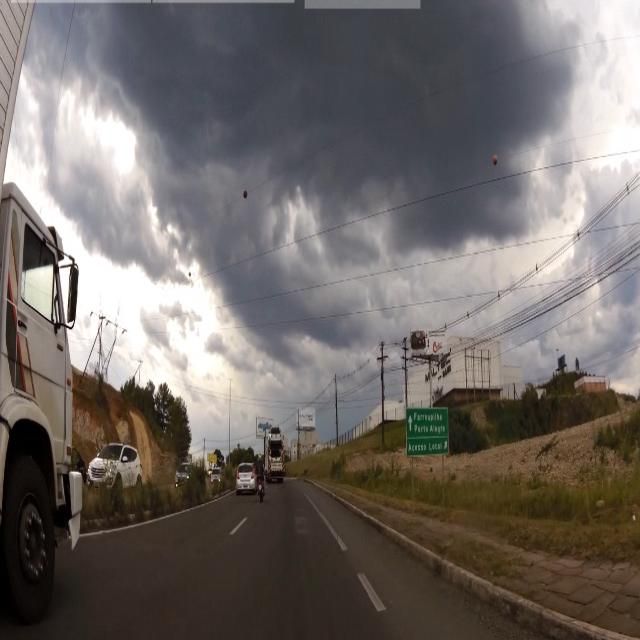I-4: (405, 409, 450, 456)
